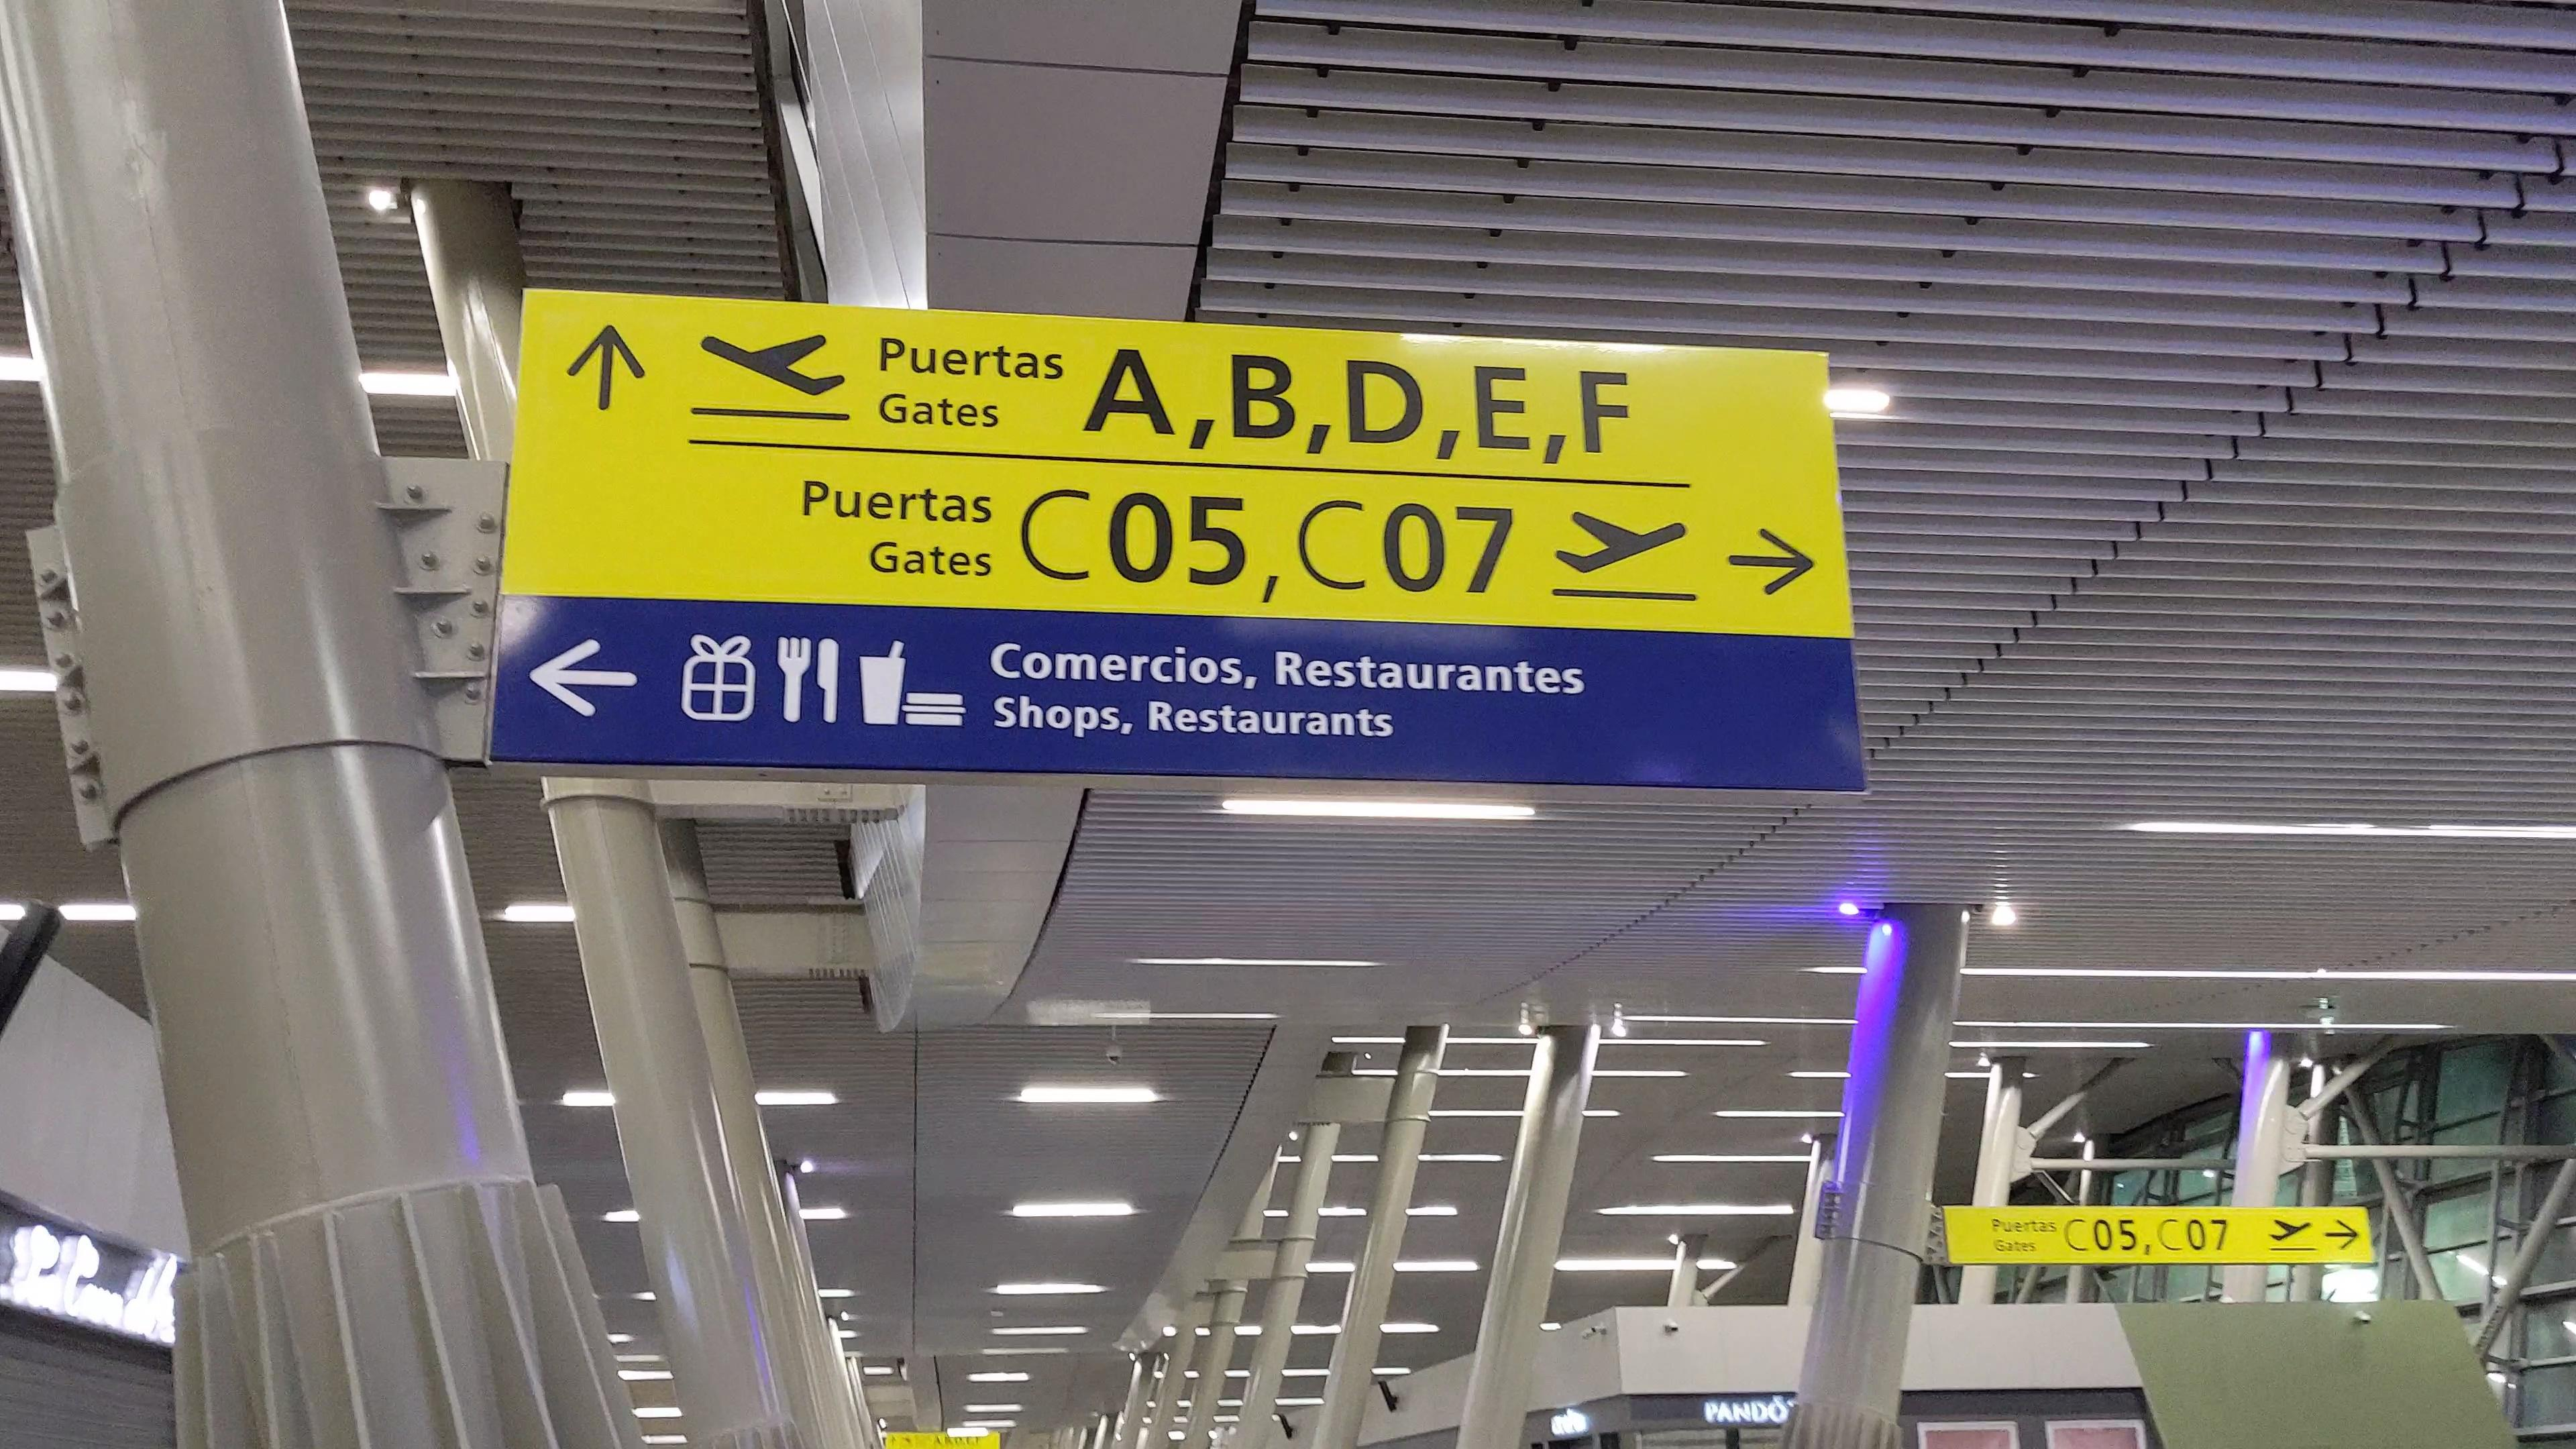airplane symbol: (699, 334, 860, 396), (1550, 510, 1693, 579), (2268, 1215, 2314, 1244)
restaurants: (773, 633, 849, 729)
thin left arrow: (524, 635, 644, 724)
thin right arrow: (1725, 525, 1822, 600), (2321, 1215, 2362, 1254)
thin up arrow: (564, 318, 649, 416)
